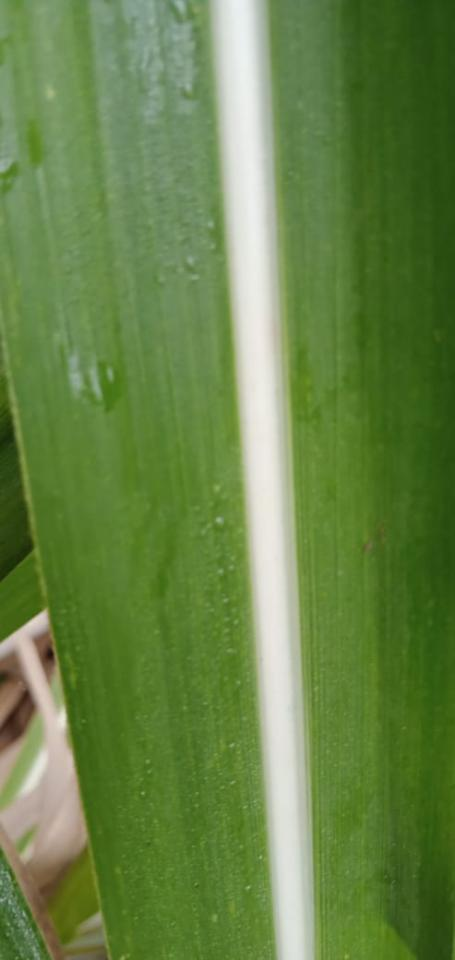Healthy: (0, 0, 454, 959), (0, 326, 50, 645)
